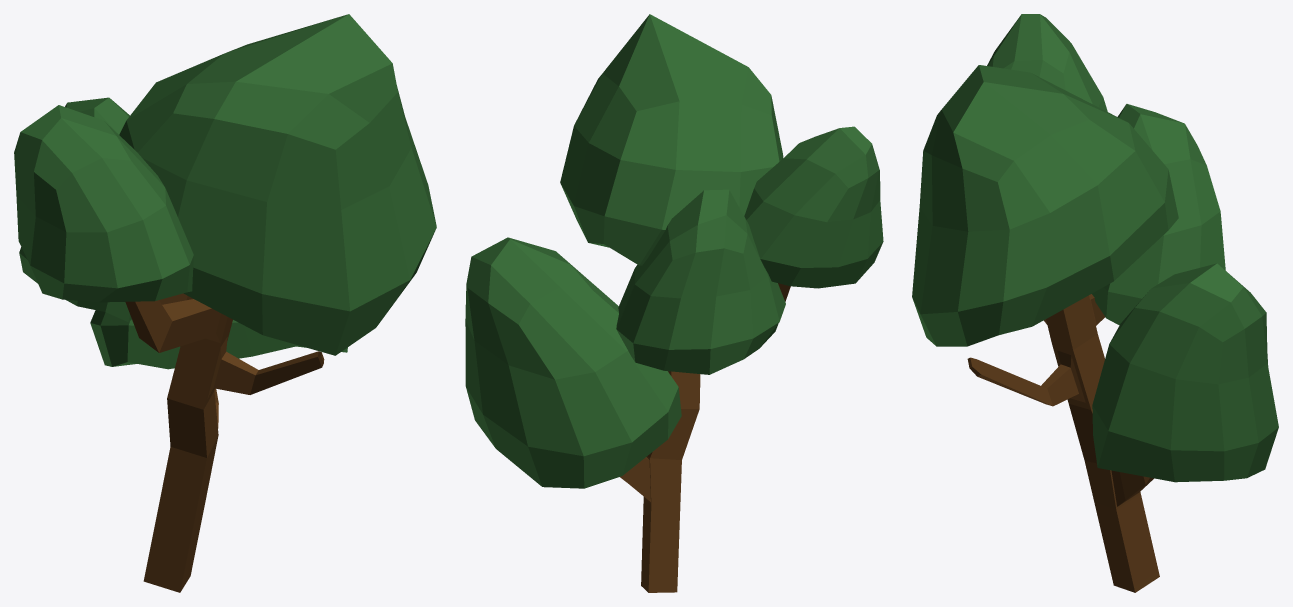
The model's file is Tree Type 3.fbx.
3 renders of one model, left to right at view 1: azimuth 30°, elevation 25°; view 2: azimuth 150°, elevation 25°; view 3: azimuth 270°, elevation 25°, orthographic. The views are drawn at different scales.
Parts seen in each view (by area): view 1: Cube.039; view 2: Cube.039; view 3: Cube.039.
Part boxes in pixels (bbox=[...]): Cube.039: bbox=[14, 14, 436, 592]; Cube.039: bbox=[465, 14, 883, 592]; Cube.039: bbox=[912, 14, 1278, 592].
Size of the model in its own units: 730 by 1078 by 657.
